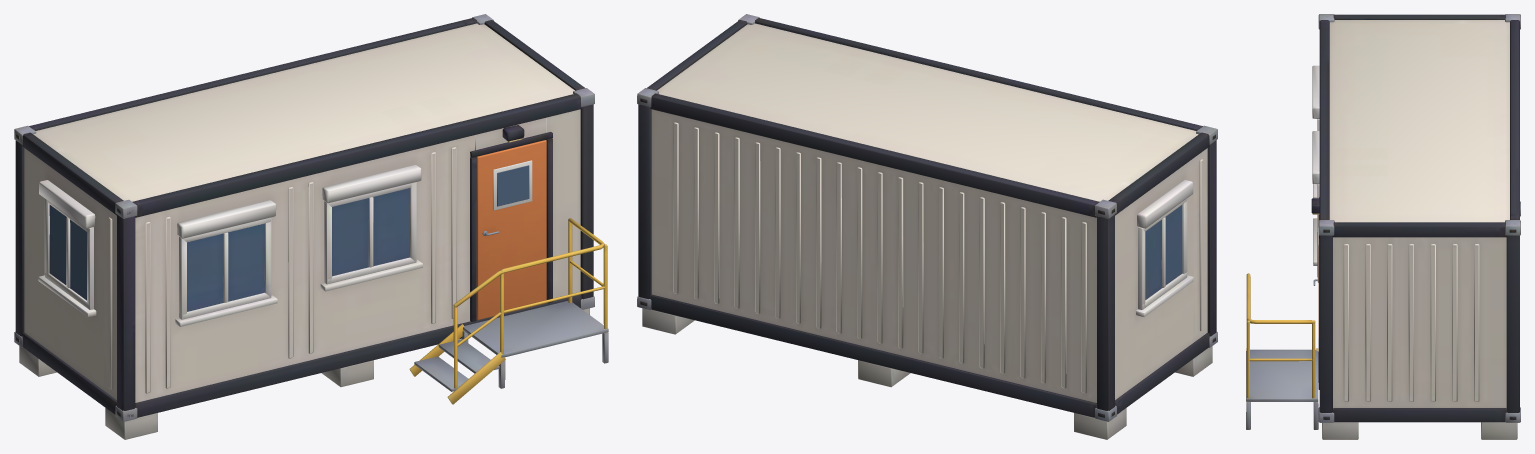
Rendered from site-office.glb.
The picture shows the model from 3 angles, left to right: view 1: azimuth 30°, elevation 25°; view 2: azimuth 150°, elevation 25°; view 3: azimuth 270°, elevation 25°; orthographic projection. The views are drawn at different scales.
Parts seen in each view (by area): view 1: site-office_body, site-office_door; view 2: site-office_body; view 3: site-office_body.
Part boxes in pixels (bbox=[...]): site-office_body: bbox=[14, 14, 608, 439]; site-office_door: bbox=[476, 140, 546, 319]; site-office_body: bbox=[637, 14, 1217, 439]; site-office_body: bbox=[1246, 14, 1520, 439].
Bounding box in the file's own units: 6.1 × 2.9 × 3.29.
Materials: 2 (2 with a texture image).
